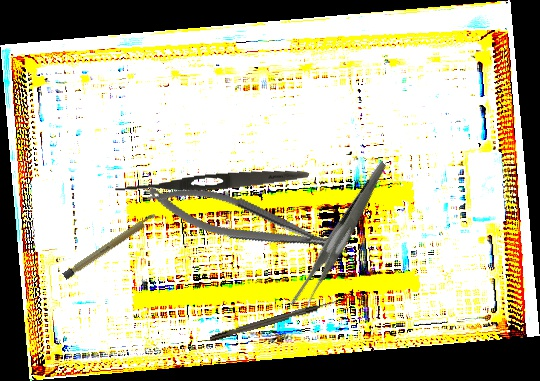Dressing Forceps: (258, 160, 425, 317), (112, 165, 310, 200)
Hook Surgical: (209, 298, 340, 342)
Needle Holder: (141, 170, 352, 275)
Scalpel Handle: (62, 211, 158, 281)
